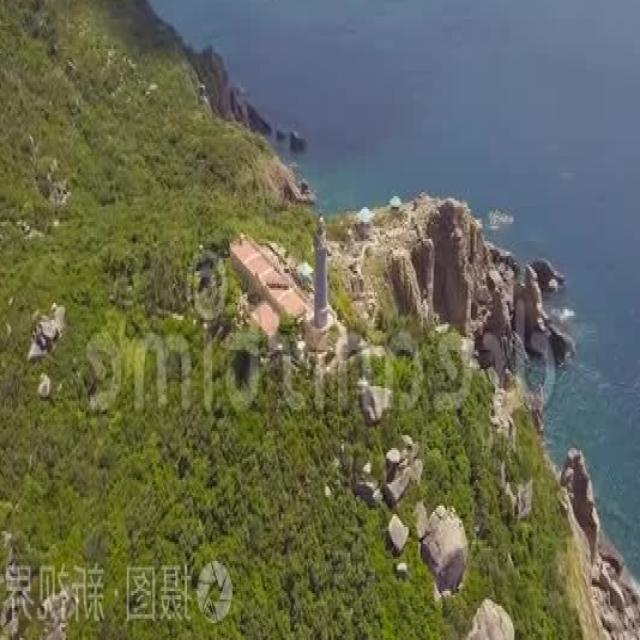reef: (408, 211, 562, 355)
